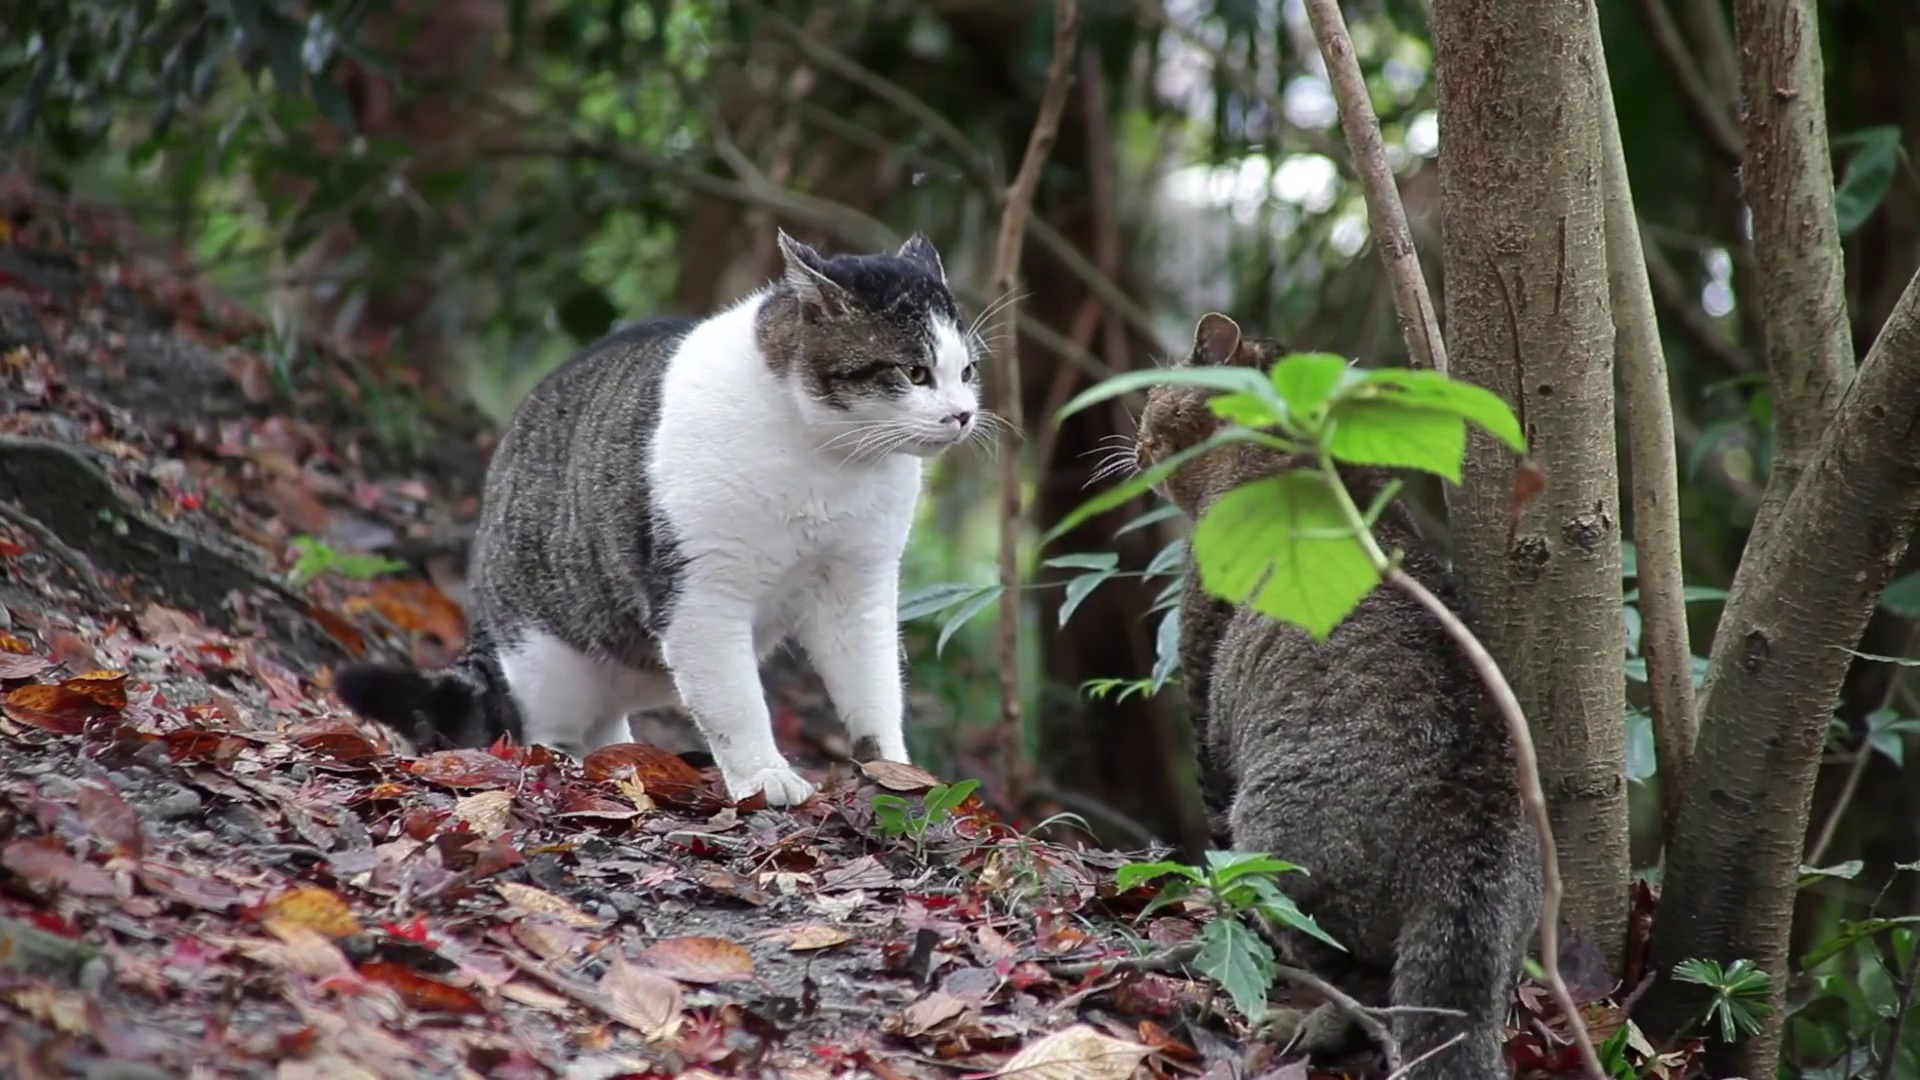black-white: (331, 225, 978, 803)
pure black: (1130, 309, 1528, 1080)
